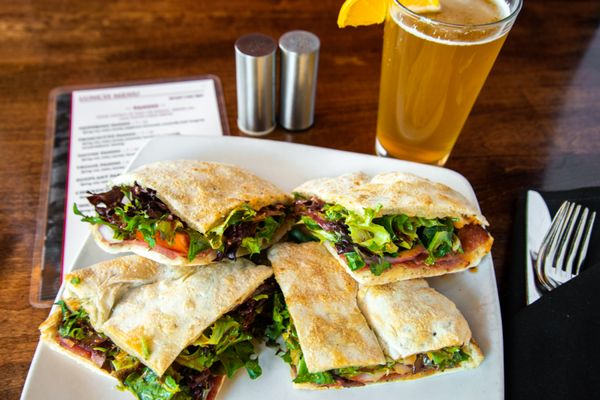burger: (532, 198, 599, 293)
pizza: (375, 0, 525, 167)
soup: (37, 251, 280, 396), (266, 240, 484, 388), (289, 169, 494, 286), (72, 159, 294, 265), (266, 237, 389, 387)
